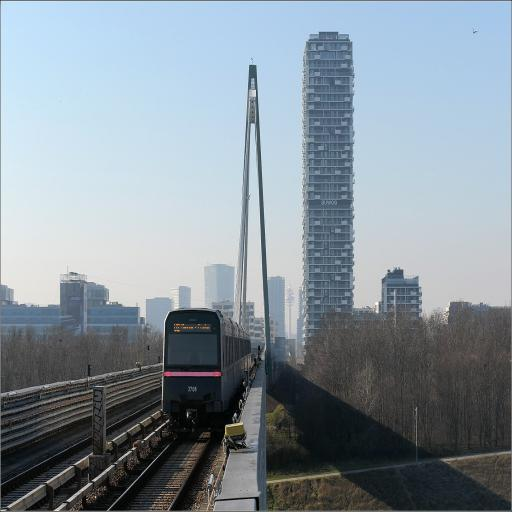X-Wagen: (161, 307, 253, 416)
